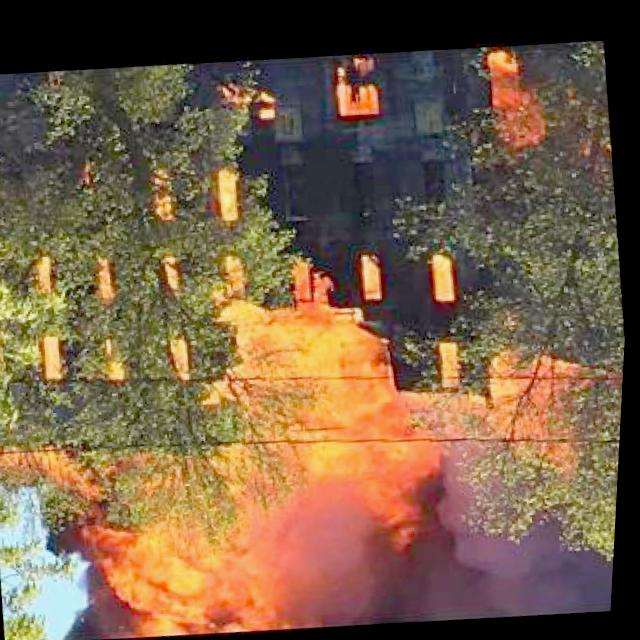helmet: (0, 135, 630, 640)
